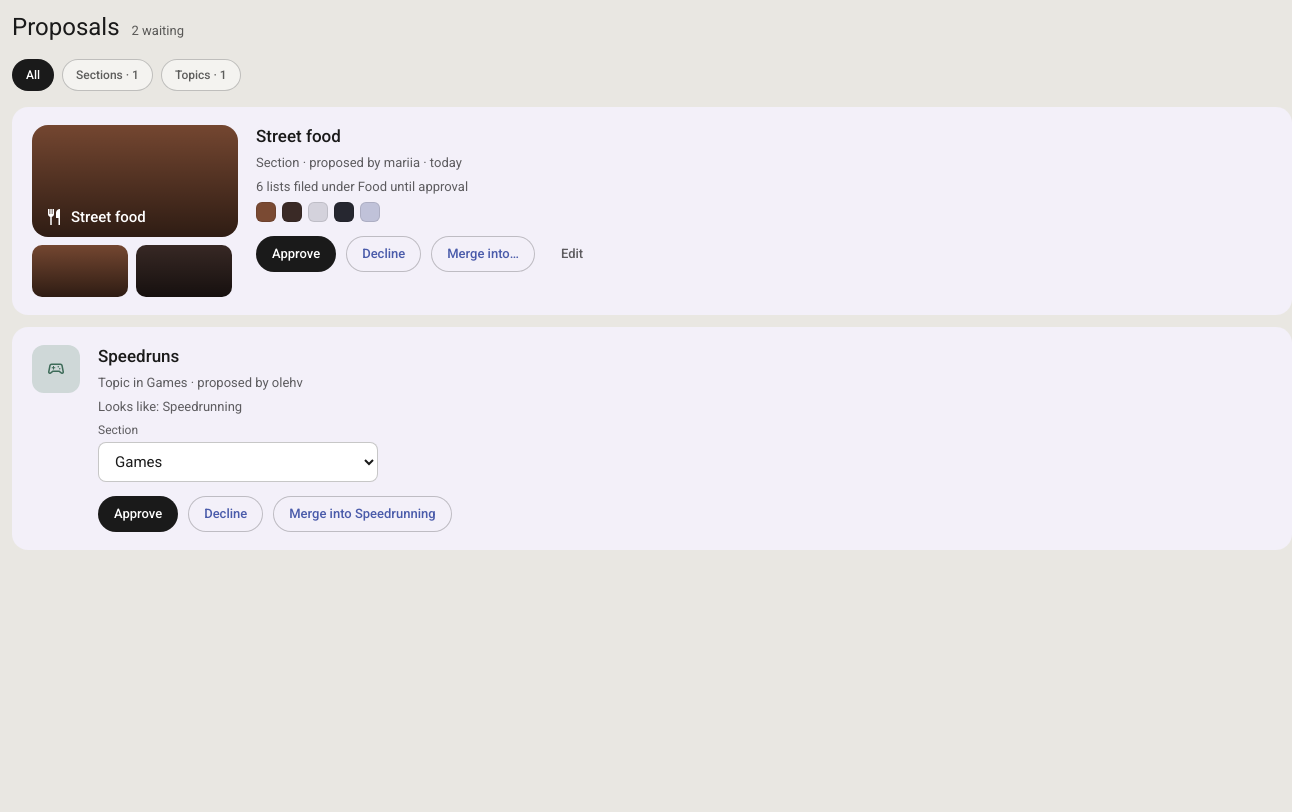
ProposalsPane › says when somebody else decided first, and reads the queue again
The image size is (1292, 812).
Click the button "Approve" below "6 lists filed under Food until approval": (296, 254) x1=256 y1=236 x2=336 y2=272
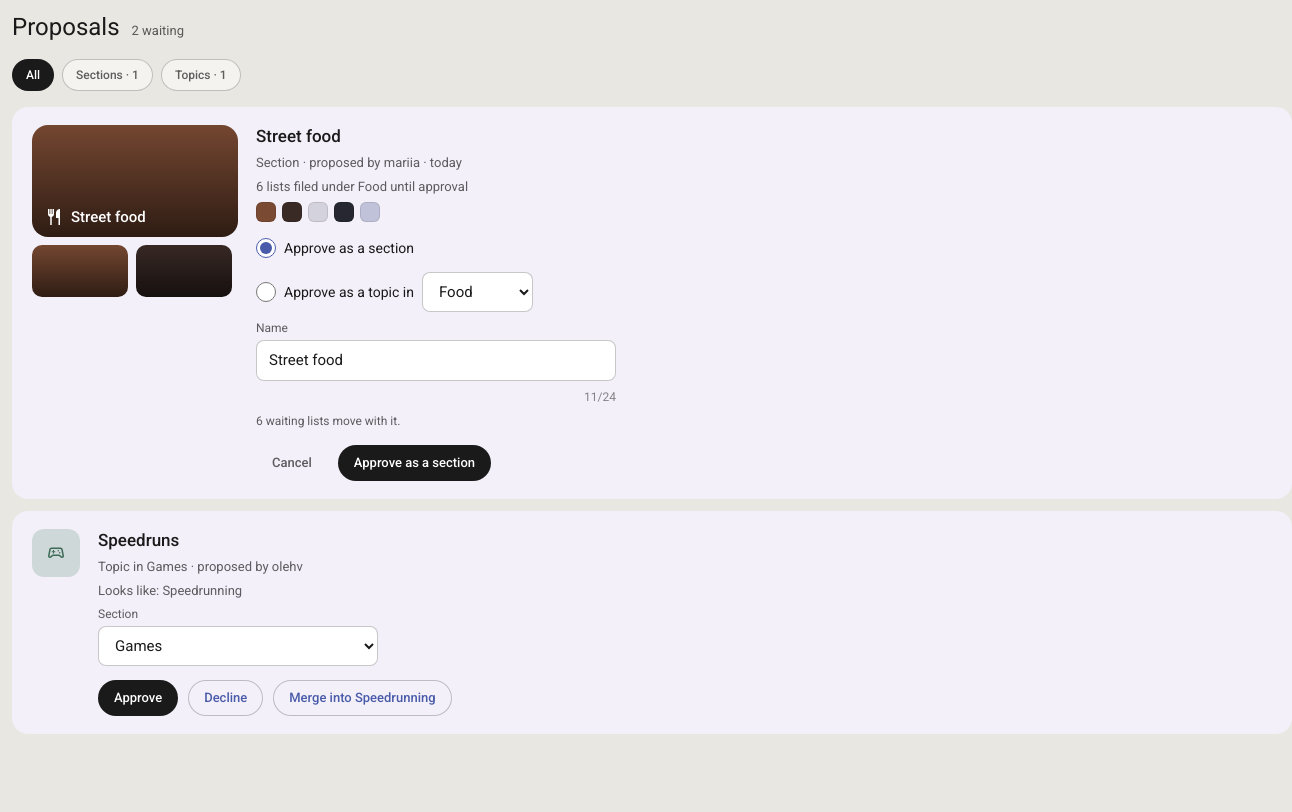
Click the button "Approve as a section": (414, 462) x1=338 y1=444 x2=491 y2=480
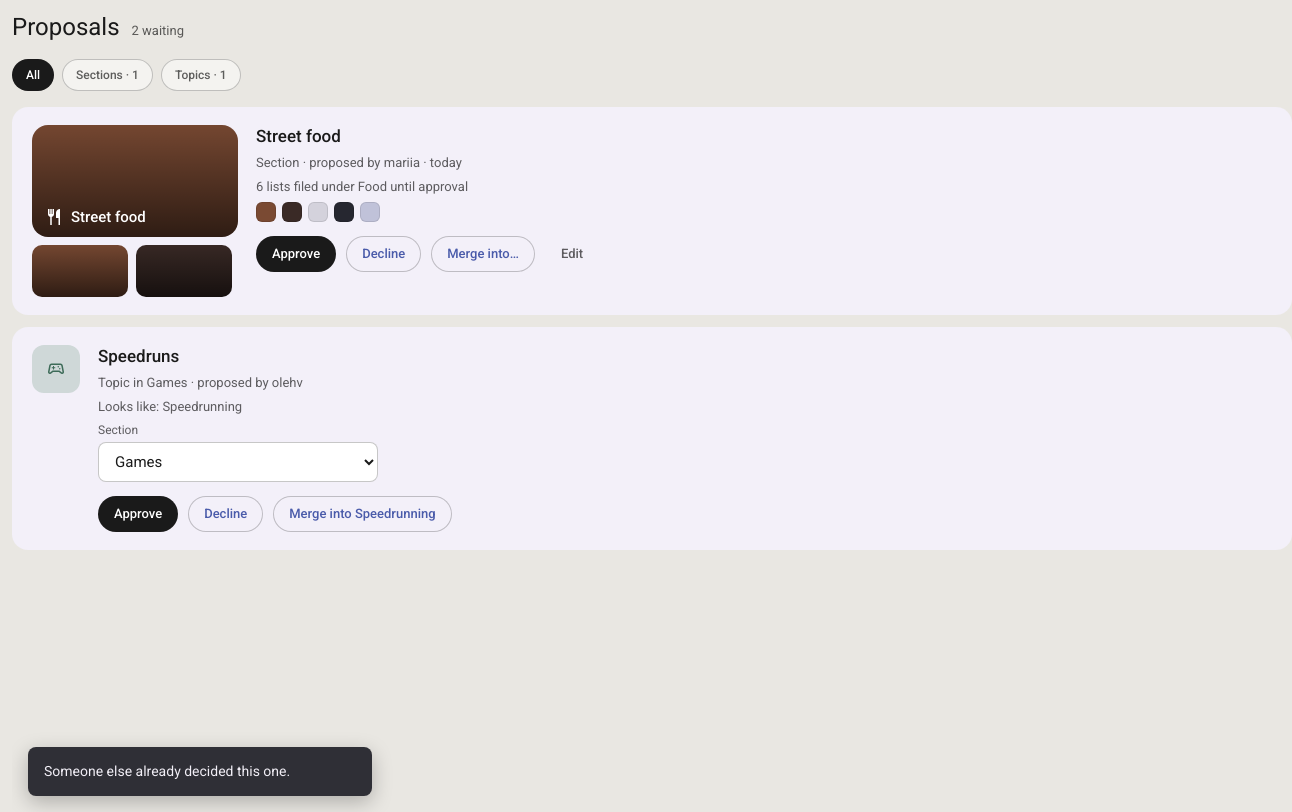
Result: the text "Someone else already decided this one." is shown at x1=44 y1=761 x2=290 y2=782
